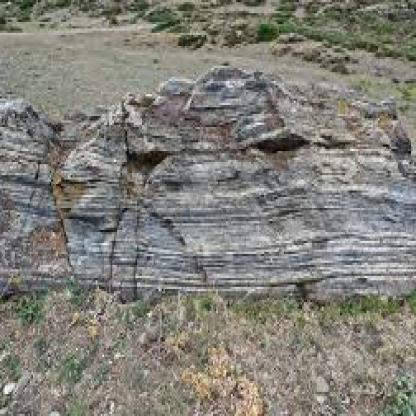Metamorphic_Quartize: (124, 59, 414, 156), (0, 99, 73, 289)
